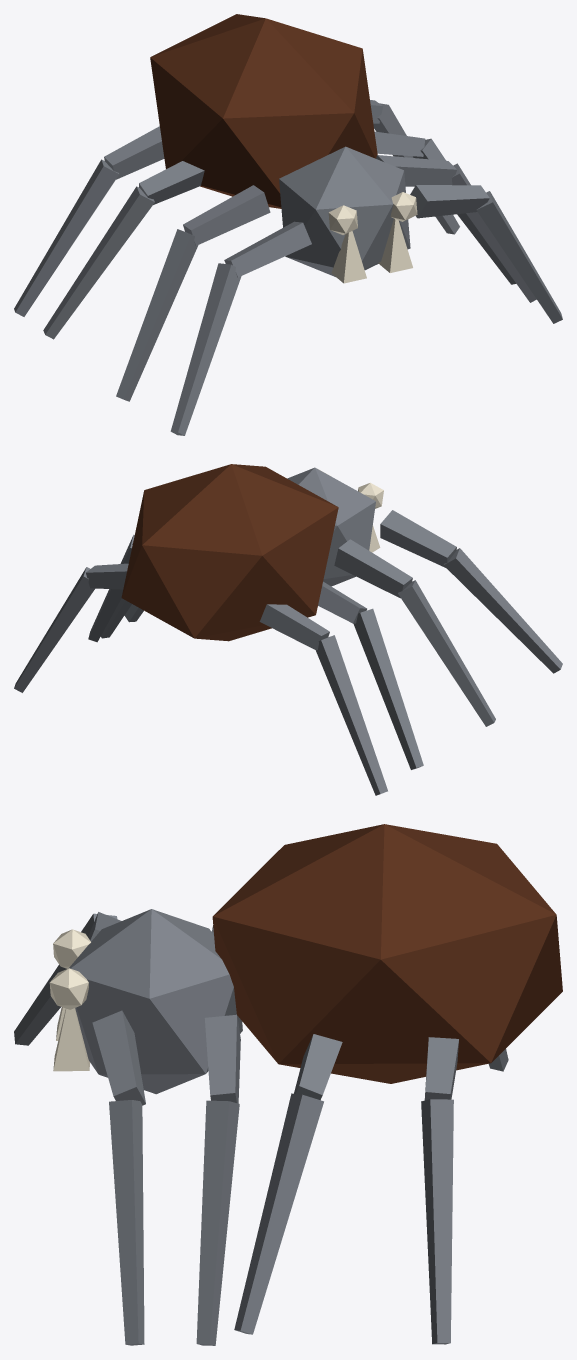
Rendered from npcpose_spider_walk_09.glb.
3 views of the same model, one above another, from view 1: azimuth 30°, elevation 25°; view 2: azimuth 150°, elevation 25°; view 3: azimuth 270°, elevation 25° (orthographic). The views are drawn at different scales.
Visible parts, largest first — view 1: npcpose; view 2: npcpose; view 3: npcpose.
Part boxes in pixels (box(x1,y1,x2,y2)): npcpose: box(14, 14, 562, 435); npcpose: box(14, 464, 562, 795); npcpose: box(14, 824, 562, 1345).
Size of the model in its own units: 1.36 by 0.8442 by 1.07.
